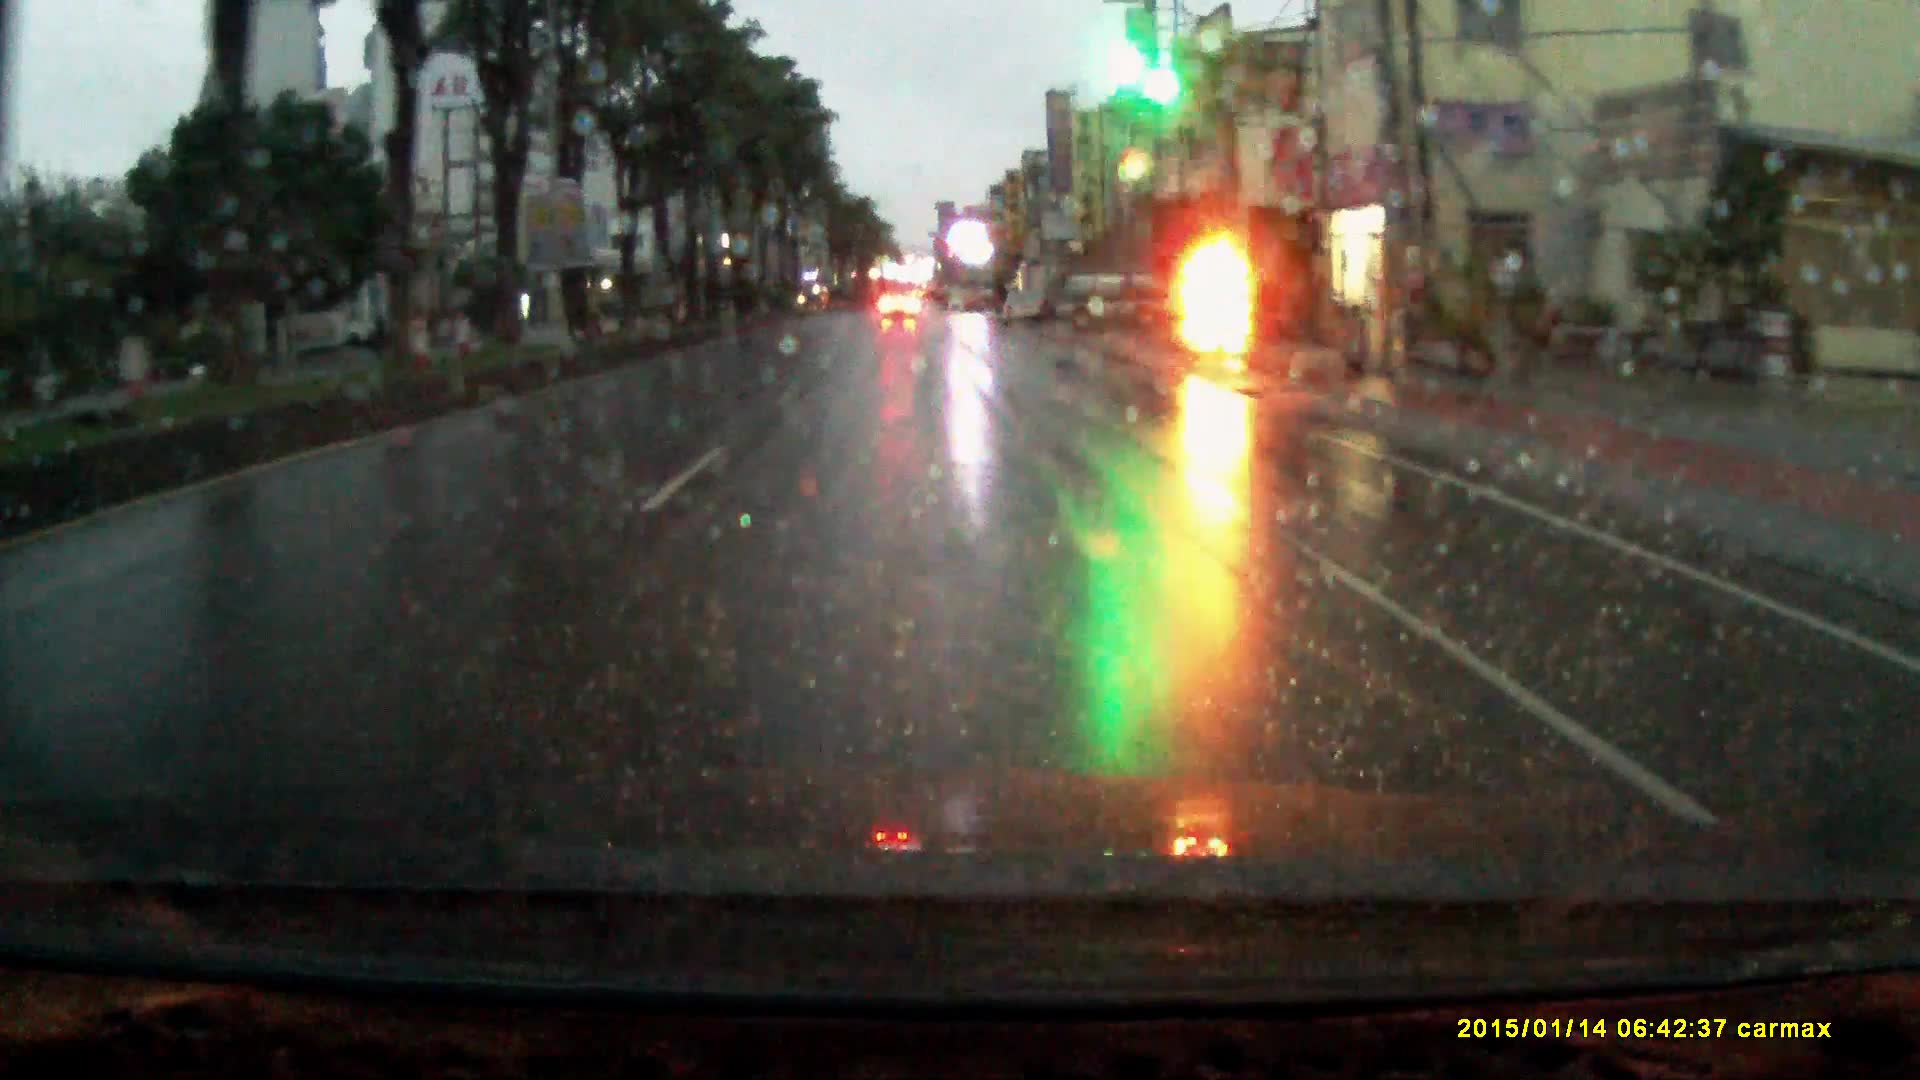vehicle: (1054, 270, 1180, 338), (1001, 290, 1044, 324), (878, 285, 920, 319)
